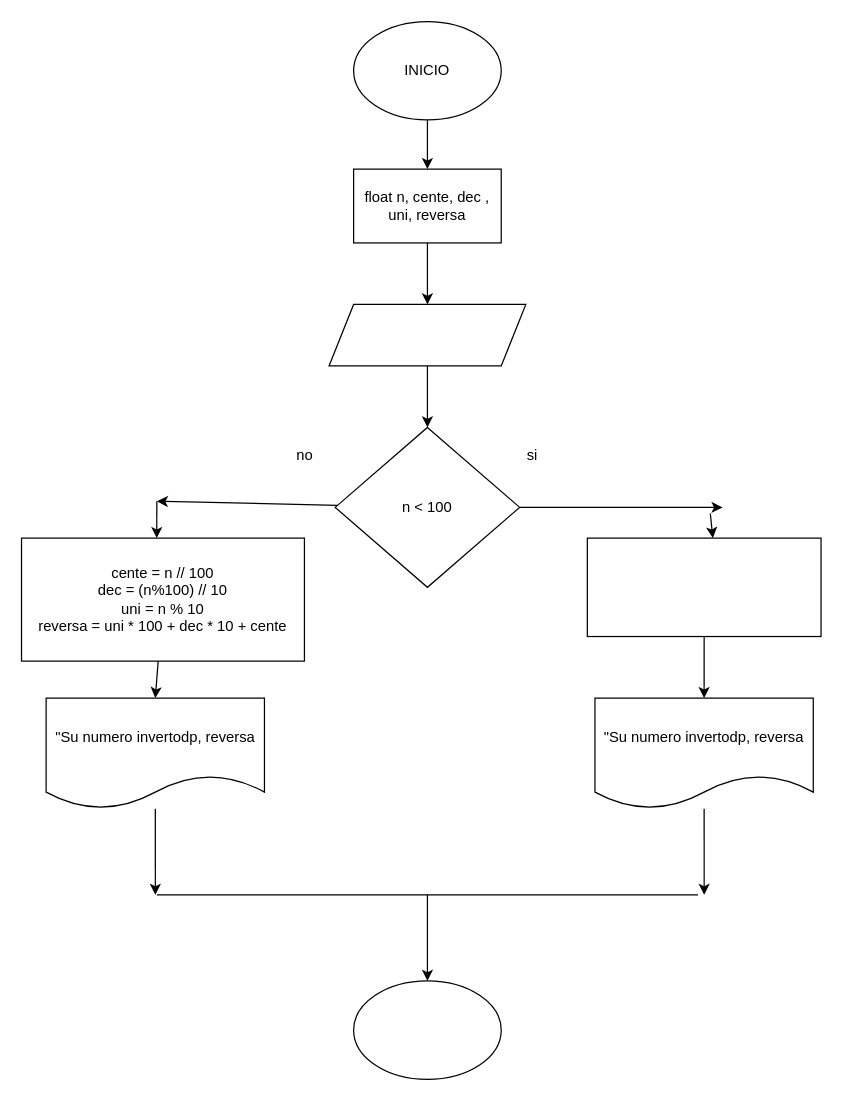
This 843x1101 diagram has some shape labels left out. Each missing label, with the centre of its shape:
"Numero a voltear", n: the point at 427,334
dec = n // 10 uni = n % 10 reversa = uni * 10 + dec: the point at 703,587
FIN: the point at 426,1029
